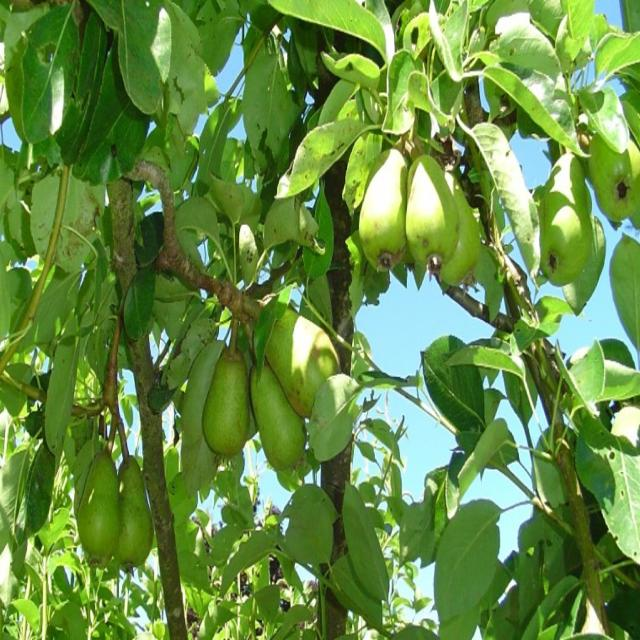pear: (260, 304, 336, 427), (534, 152, 594, 292), (246, 364, 307, 471), (403, 156, 458, 266), (354, 150, 406, 266), (440, 170, 486, 294), (74, 456, 123, 572), (583, 122, 639, 220), (204, 350, 248, 462), (116, 456, 154, 572)
